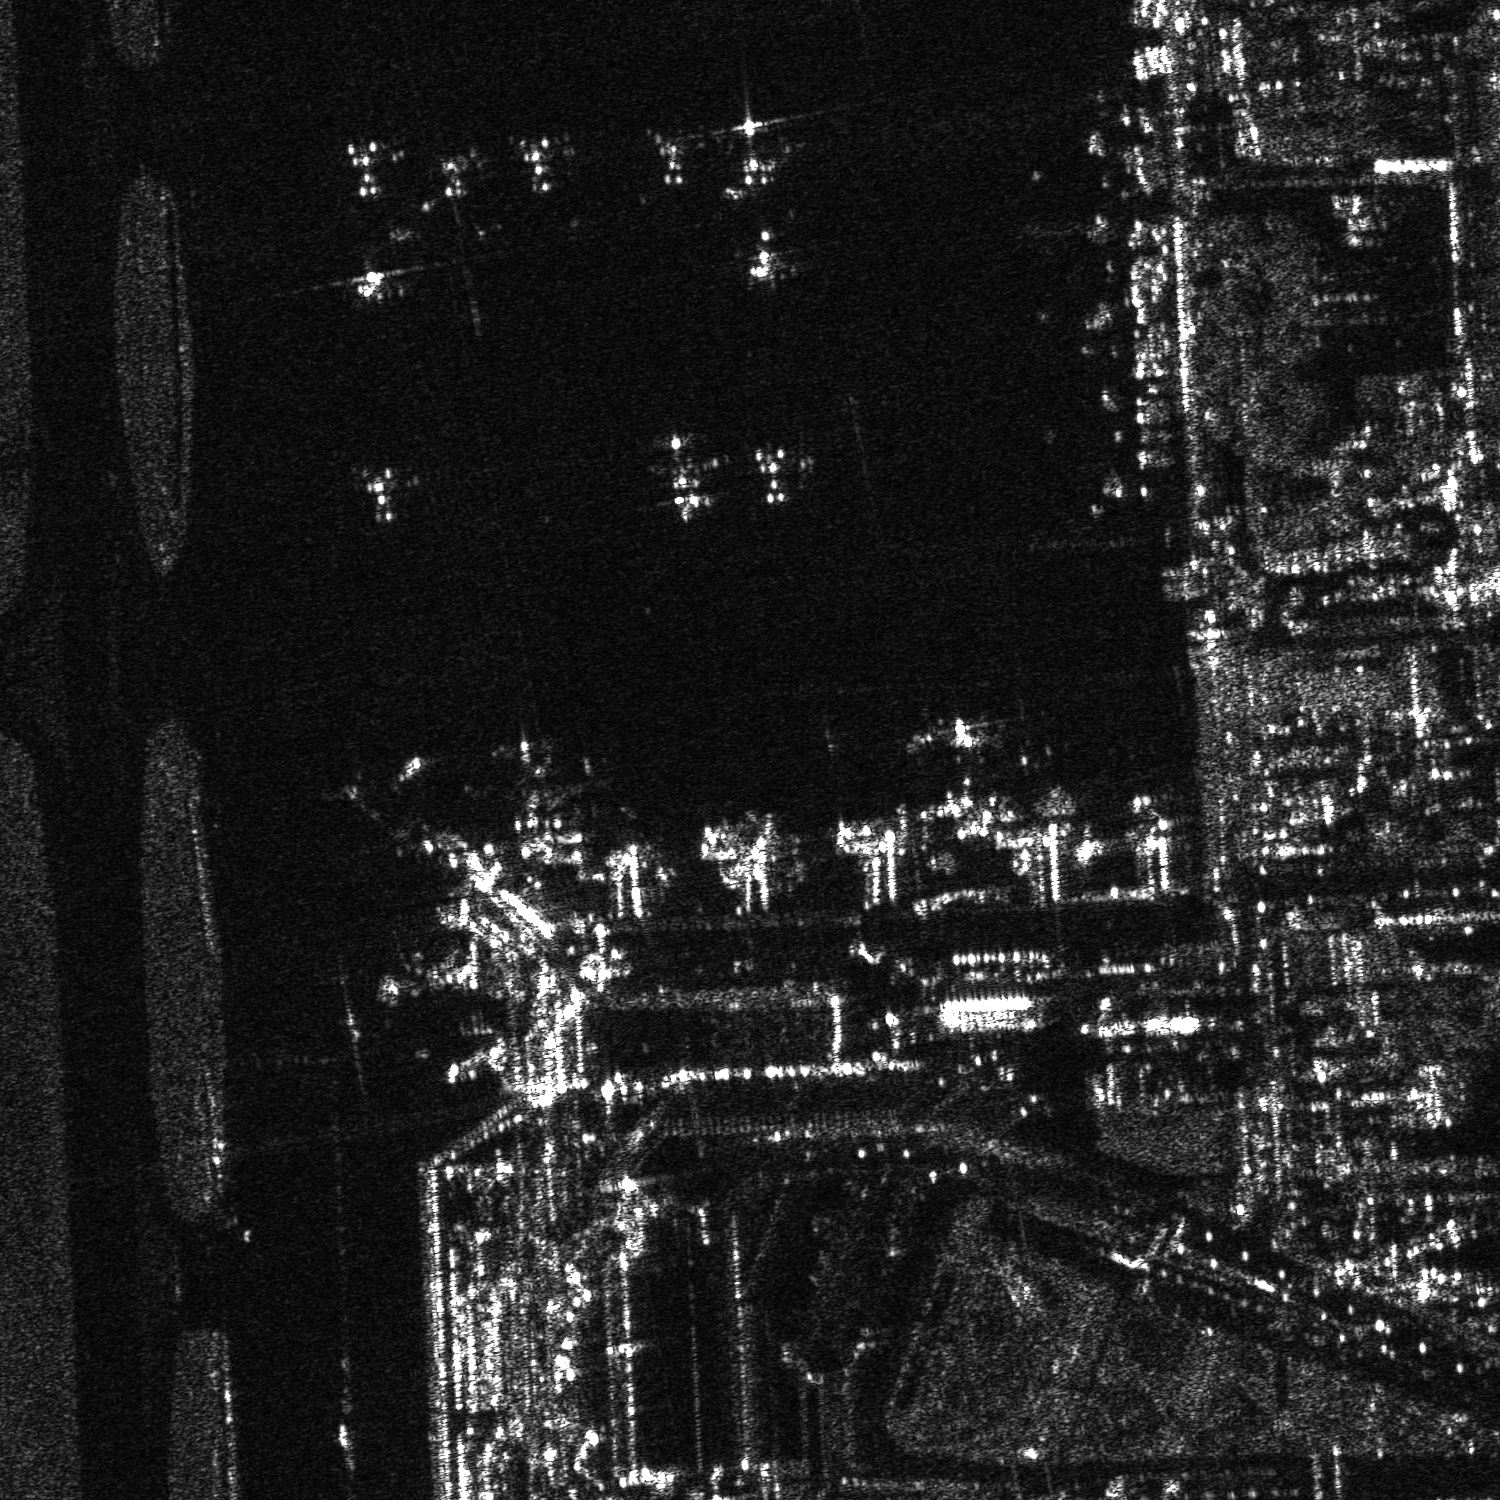A220: (750, 441, 823, 512)
ARJ21: (736, 220, 801, 288), (348, 468, 412, 530), (338, 253, 407, 306)
Boeing787: (927, 714, 997, 768)
other: (444, 721, 614, 843), (632, 418, 739, 532), (716, 115, 805, 201), (332, 135, 411, 202), (510, 129, 577, 196), (426, 144, 496, 207), (648, 126, 705, 192)
